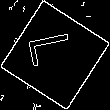L_E: (27, 34, 83, 76)
